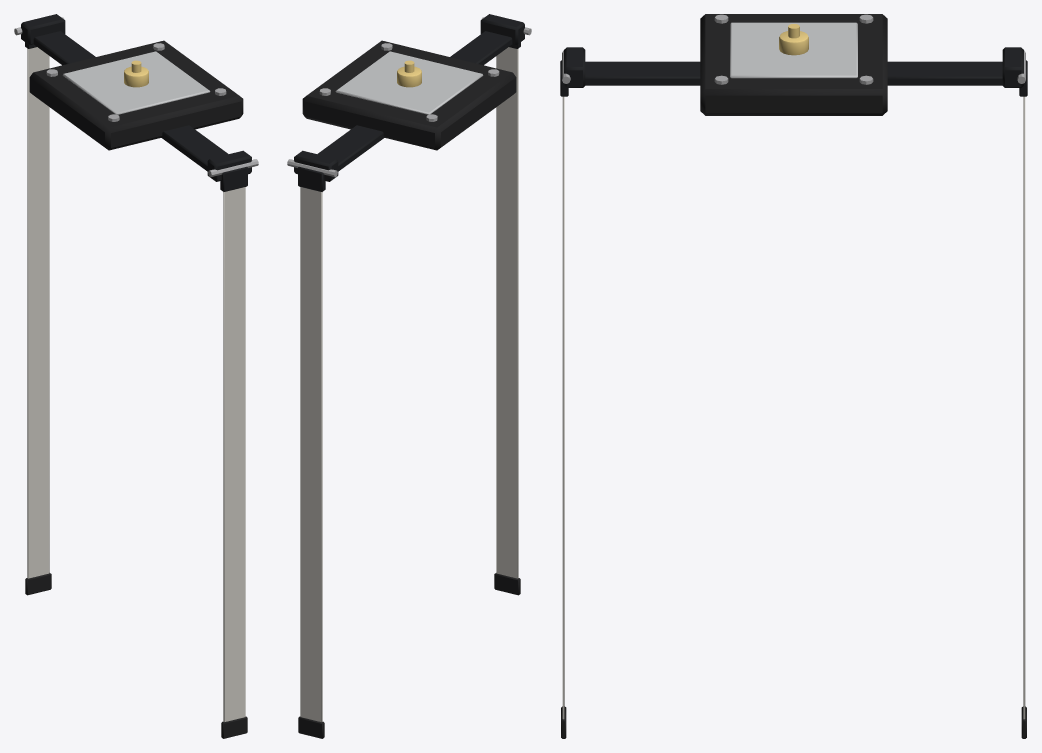
Rendered from mod_antenna_uhf.glb.
3 views of the same model, side by side, from view 1: azimuth 30°, elevation 25°; view 2: azimuth 150°, elevation 25°; view 3: azimuth 270°, elevation 25° (orthographic). The views are drawn at different scales.
Parts seen in each view (by area): view 1: mod_antenna_uhf, uhf_tape_b, uhf_tape_a; view 2: mod_antenna_uhf, uhf_tape_a, uhf_tape_b; view 3: mod_antenna_uhf, uhf_tape_a, uhf_tape_b.
Boxes of the visible parts, box(x1,y1,x2,y2) form: mod_antenna_uhf: box(14, 14, 258, 181); uhf_tape_b: box(220, 166, 247, 738); uhf_tape_a: box(25, 42, 51, 595); mod_antenna_uhf: box(287, 14, 531, 181); uhf_tape_a: box(298, 166, 325, 738); uhf_tape_b: box(494, 42, 520, 595); mod_antenna_uhf: box(562, 14, 1025, 115); uhf_tape_a: box(1019, 60, 1027, 738); uhf_tape_b: box(560, 60, 568, 738).
Size of the model in its own units: 0.44 by 1.83 by 1.1.
